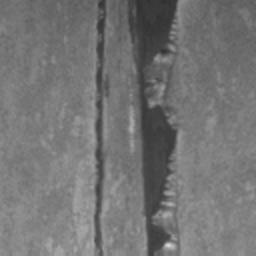Slag inclusion: (125, 0, 182, 256), (92, 0, 113, 256)
